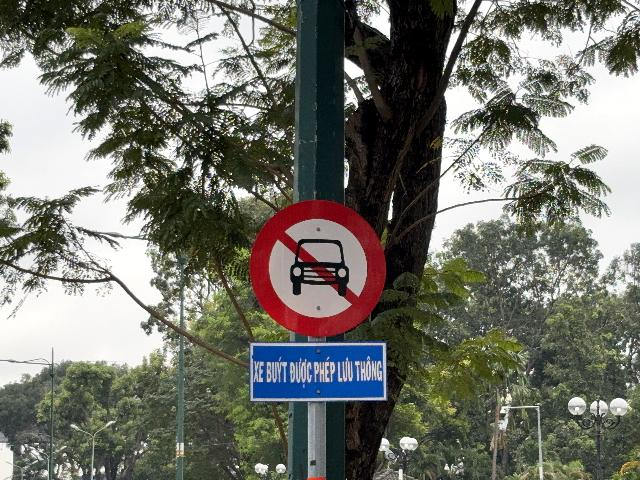cam-o-to: (249, 200, 385, 337)
